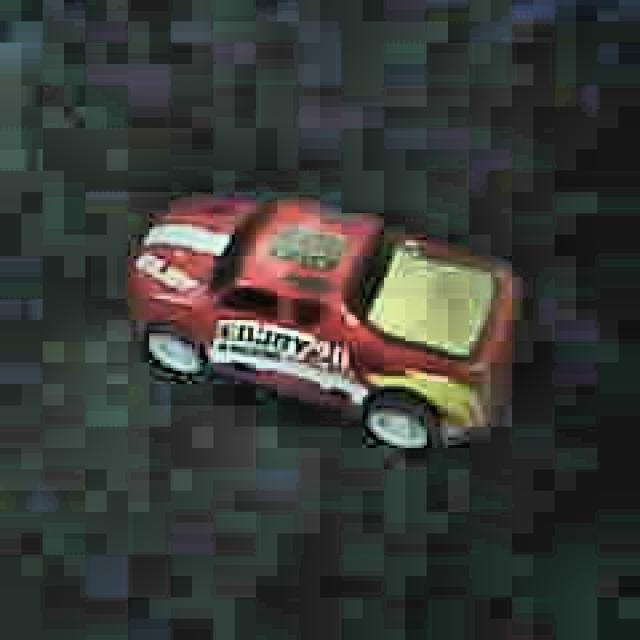car: (121, 182, 522, 466)
